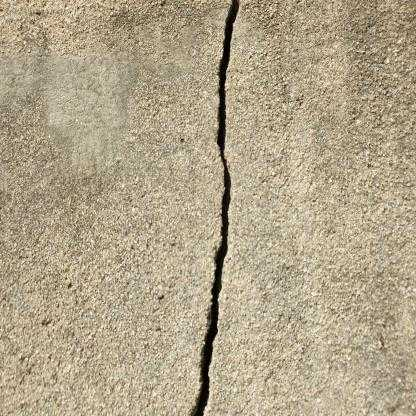crack: (193, 0, 241, 415), (194, 0, 240, 413)
